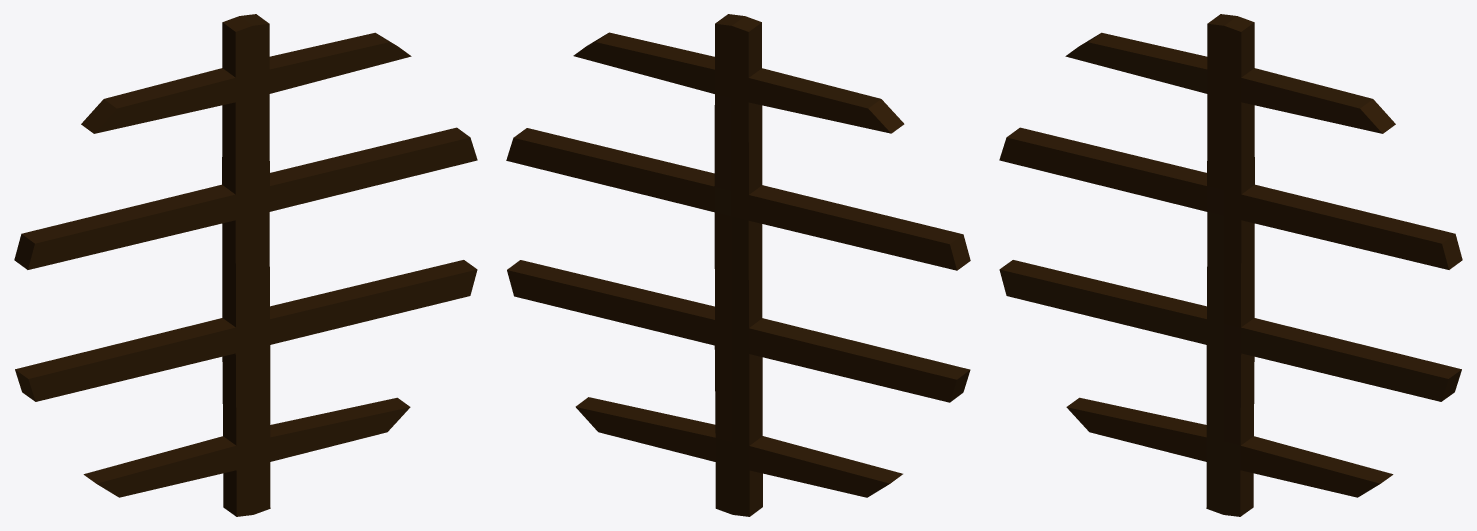
File: ventana5.fbx
3 views of the same model, side by side, from view 1: azimuth 30°, elevation 25°; view 2: azimuth 150°, elevation 25°; view 3: azimuth 330°, elevation 25° (orthographic).
Visible parts, largest first — view 1: Circle.003; view 2: Circle.003; view 3: Circle.003.
Part boxes in pixels (<box>): Circle.003: <box>14,14,477,516</box>; Circle.003: <box>506,14,970,516</box>; Circle.003: <box>999,14,1462,516</box>.
Bounding box in the file's own units: 2981 × 3094 × 165.
